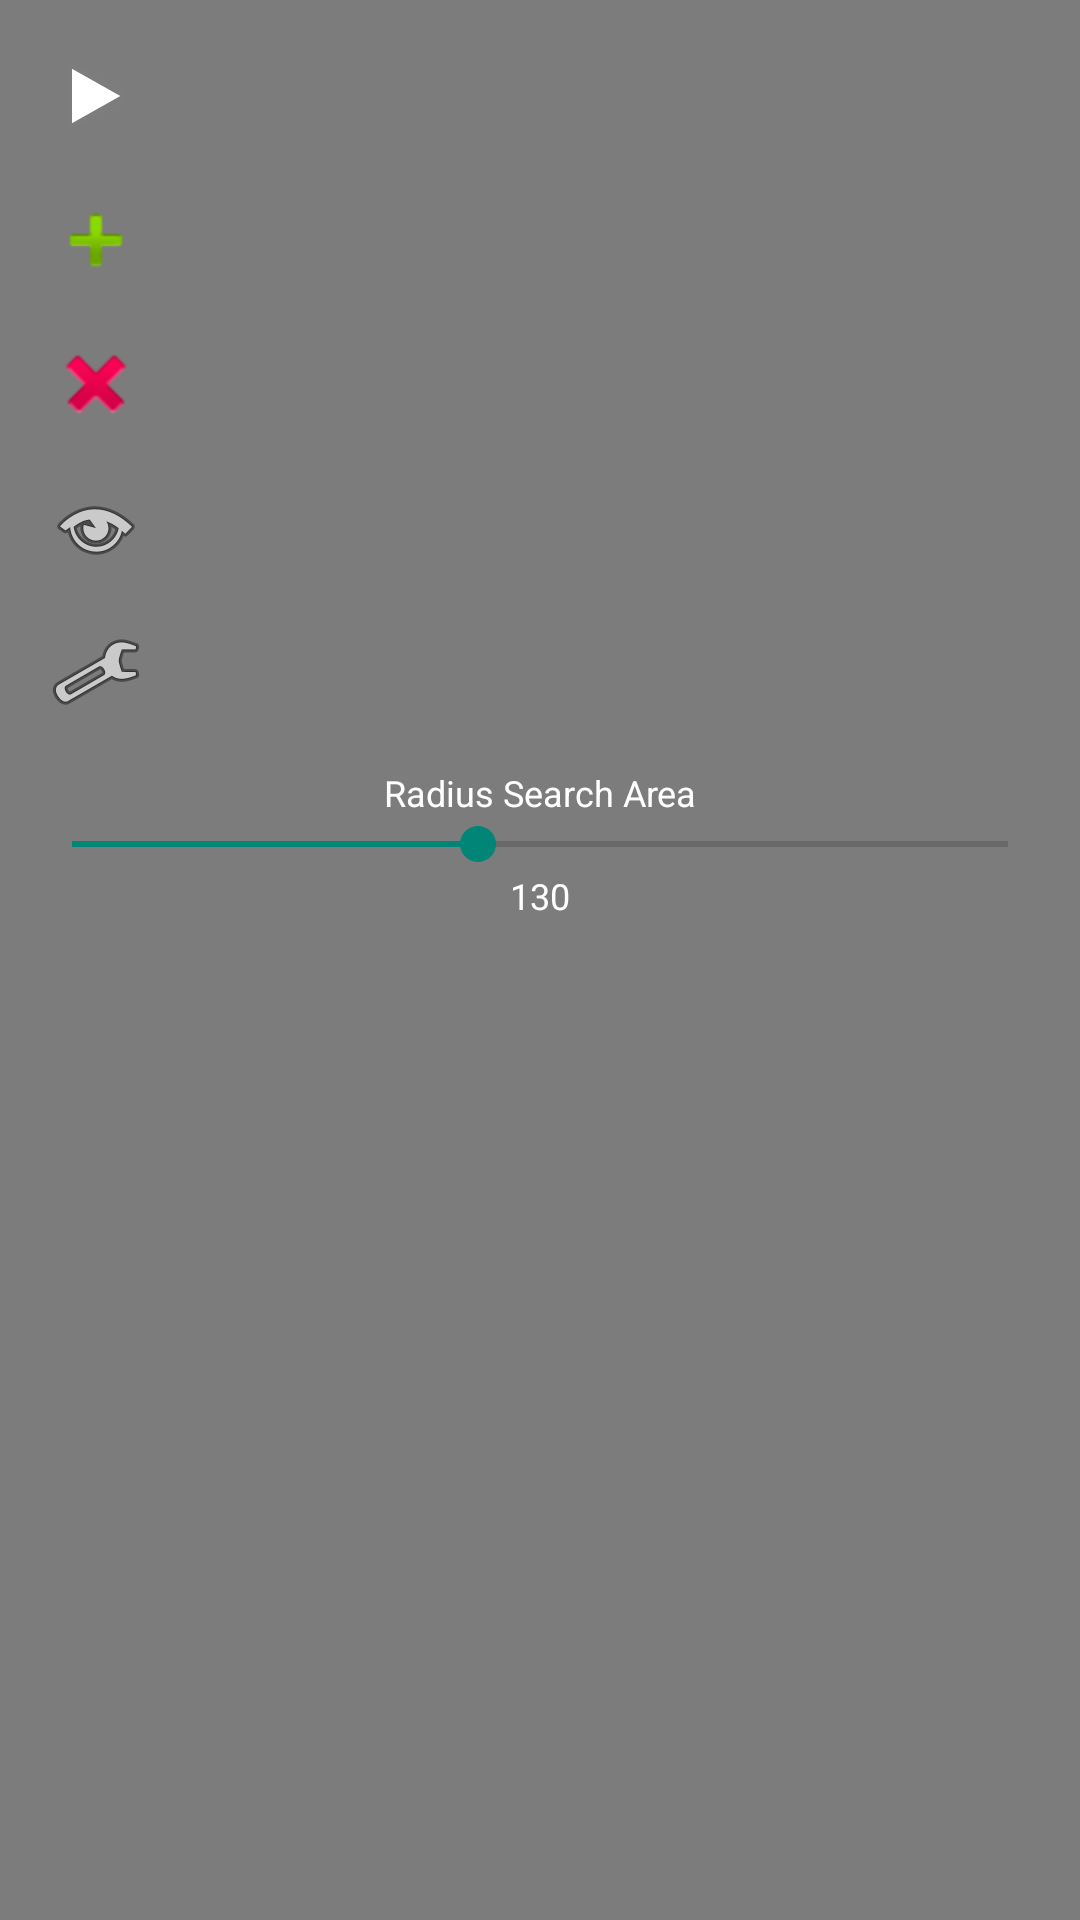

Icon click points for this 1080px x 1920px phone screenshot, format (x=x, y=y):
Create Point Click: (x=96, y=239)
Hide Point Click: (x=96, y=530)
Remove Point Click: (x=96, y=384)
Start: (x=96, y=96)
